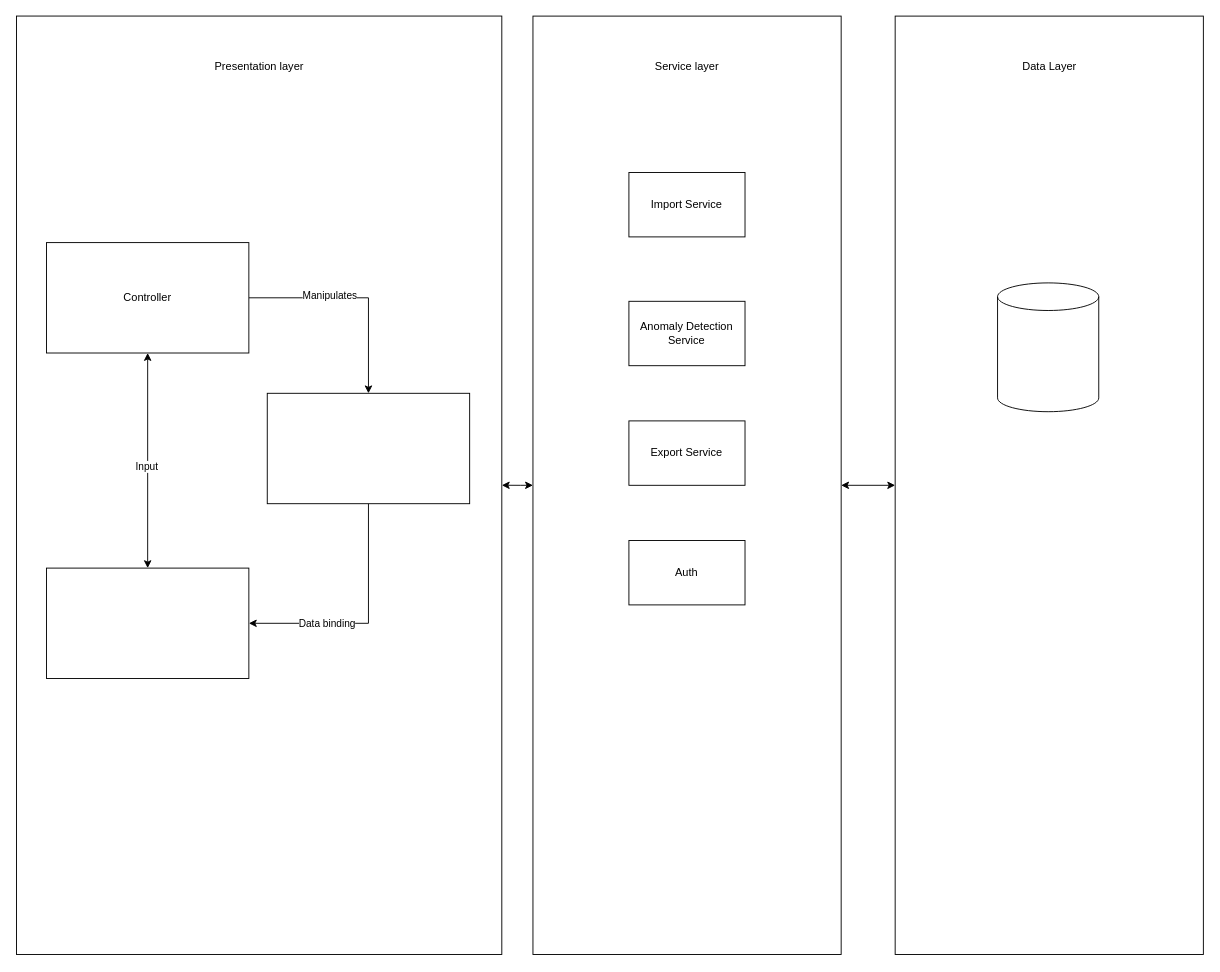
Image size: 1220x972. Some labels were removed from this diagram. Each missing label, with the box of its shape:
Database: (997, 282, 1099, 412)
Model: (266, 392, 470, 504)
View: (46, 567, 249, 678)
